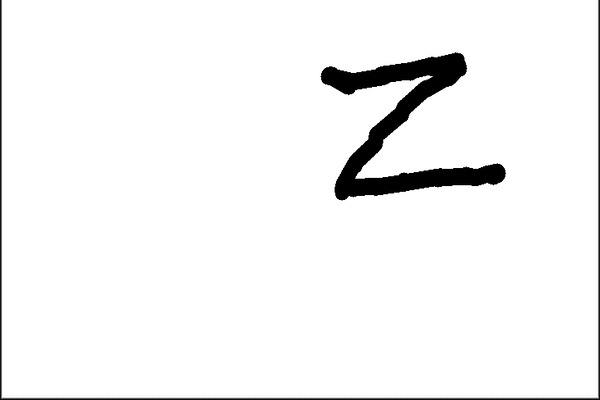Z: (317, 45, 512, 205)
